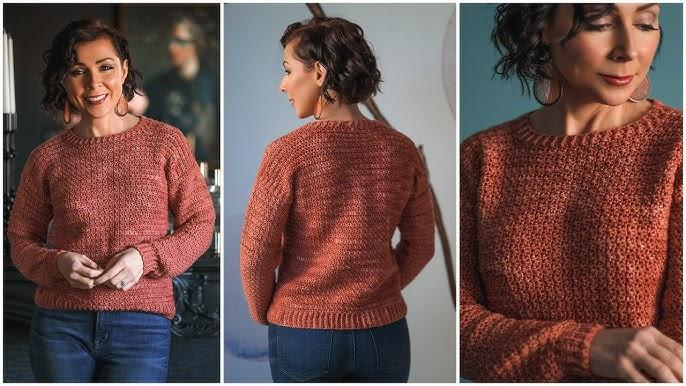sweater: (460, 97, 684, 386), (6, 114, 215, 321), (240, 117, 438, 330)
trousers: (28, 305, 173, 386), (266, 317, 414, 386)
